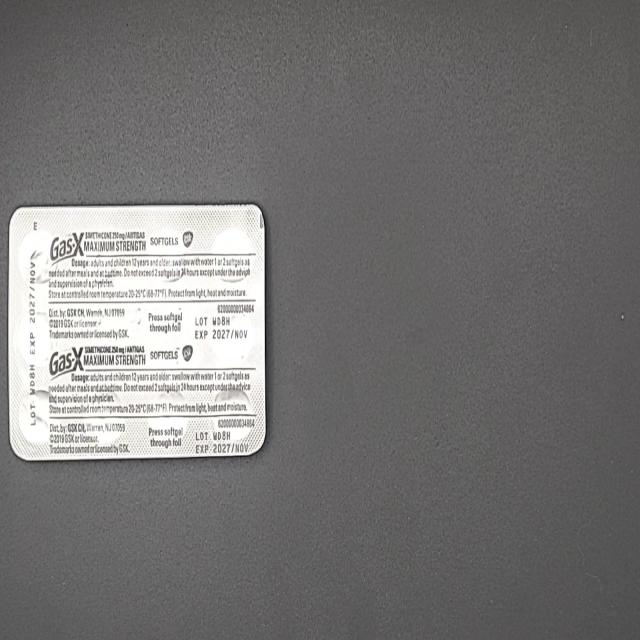no defect: (7, 14, 25, 45)
